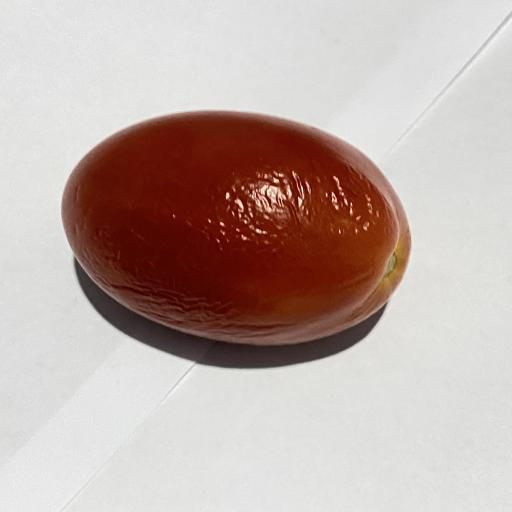spoiled: (62, 112, 410, 345)
